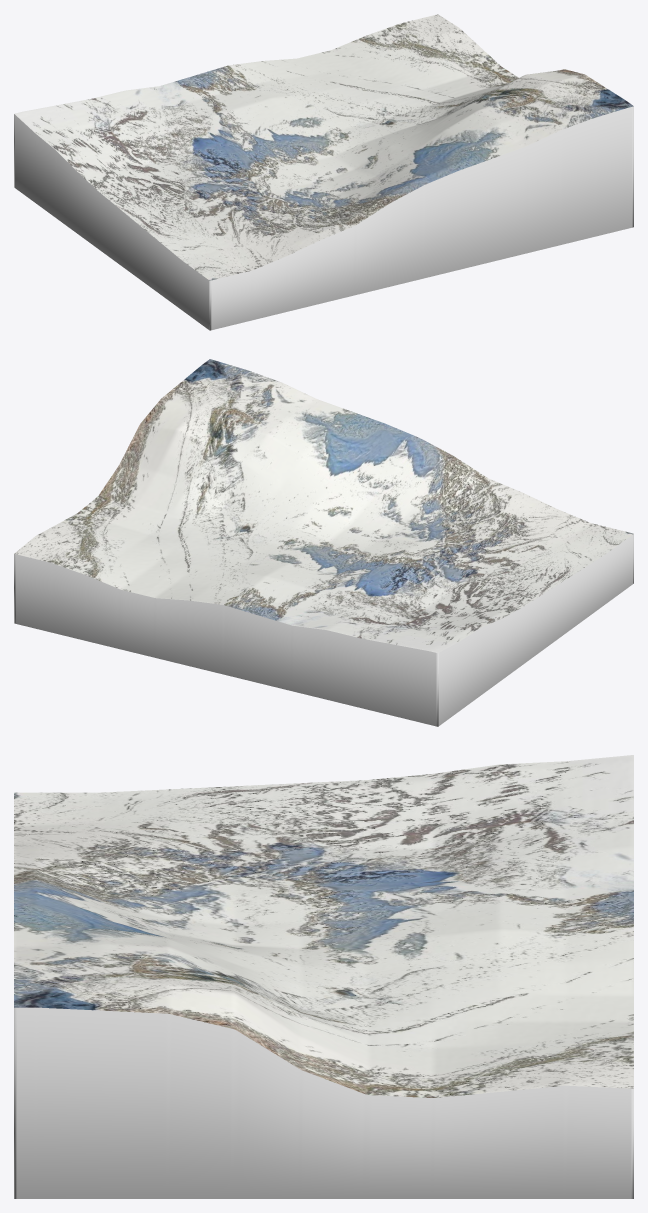
The model's file is cuautla.fbx.
The picture shows the model from 3 angles, top to bottom: view 1: azimuth 30°, elevation 25°; view 2: azimuth 150°, elevation 25°; view 3: azimuth 270°, elevation 25°; orthographic projection. The views are drawn at different scales.
Parts seen in each view (by area): view 1: EXPORT_GOOGLE_SAT_WM; view 2: EXPORT_GOOGLE_SAT_WM; view 3: EXPORT_GOOGLE_SAT_WM.
Part boxes in pixels (bbox=[...]): EXPORT_GOOGLE_SAT_WM: bbox=[14, 14, 633, 330]; EXPORT_GOOGLE_SAT_WM: bbox=[14, 359, 633, 726]; EXPORT_GOOGLE_SAT_WM: bbox=[14, 755, 633, 1198].
Size of the model in its own units: 38219 by 10416 by 30575.
